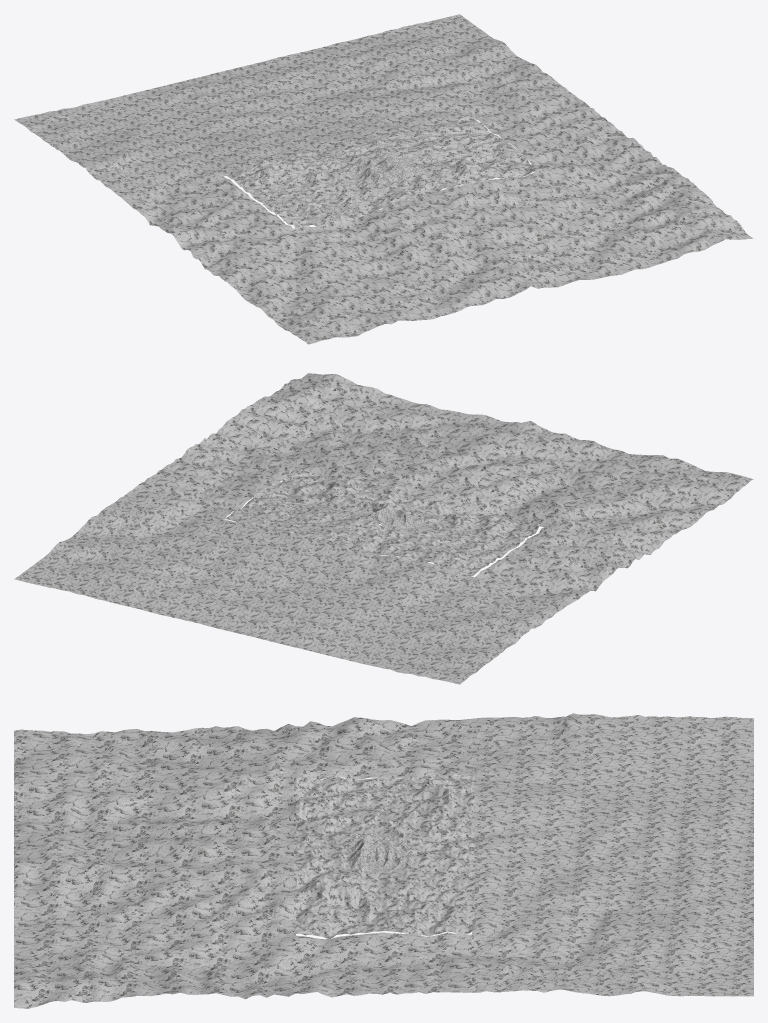
File: mountains.glb
3 renders of one model, top to bottom at view 1: azimuth 30°, elevation 25°; view 2: azimuth 150°, elevation 25°; view 3: azimuth 270°, elevation 25°, orthographic. The views are drawn at different scales.
Visible parts, largest first — view 1: EverestDistant1.HD, EverestDistant2.HD, EverestMid.HD, EverestPeak.HD; view 2: EverestDistant1.HD, EverestDistant2.HD, EverestMid.HD, EverestPeak.HD; view 3: EverestDistant1.HD, EverestDistant2.HD, EverestMid.HD, EverestPeak.HD.
Part boxes in pixels (left/top/right/bottom): EverestDistant1.HD: left=124, top=92, right=753, bottom=344; EverestDistant2.HD: left=14, top=14, right=569, bottom=201; EverestMid.HD: left=224, top=116, right=543, bottom=228; EverestPeak.HD: left=344, top=154, right=427, bottom=188; EverestDistant1.HD: left=124, top=373, right=753, bottom=603; EverestDistant2.HD: left=14, top=496, right=571, bottom=684; EverestMid.HD: left=224, top=468, right=542, bottom=576; EverestPeak.HD: left=343, top=501, right=428, bottom=534; EverestDistant1.HD: left=14, top=717, right=476, bottom=1008; EverestDistant2.HD: left=472, top=713, right=753, bottom=996; EverestMid.HD: left=294, top=774, right=474, bottom=938; EverestPeak.HD: left=349, top=829, right=407, bottom=873.
Bounding box in the file's own units: 1689 × 108 × 1930.
Materials: 3 (3 with a texture image).
